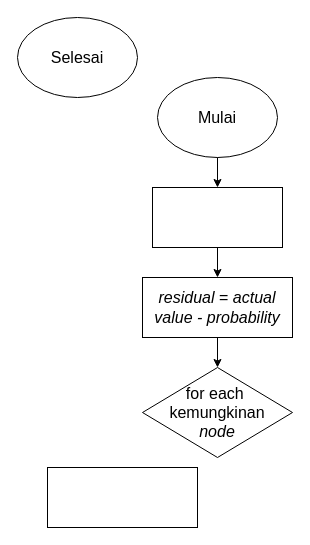
The diagram is 310 pixels wide and 545 high, and some of its shapes have lost their labels. Each missing label, with the centre of its shape:
"probability = 0.5" goes at pixel 217 217.
"similarity =" goes at pixel 122 497.
